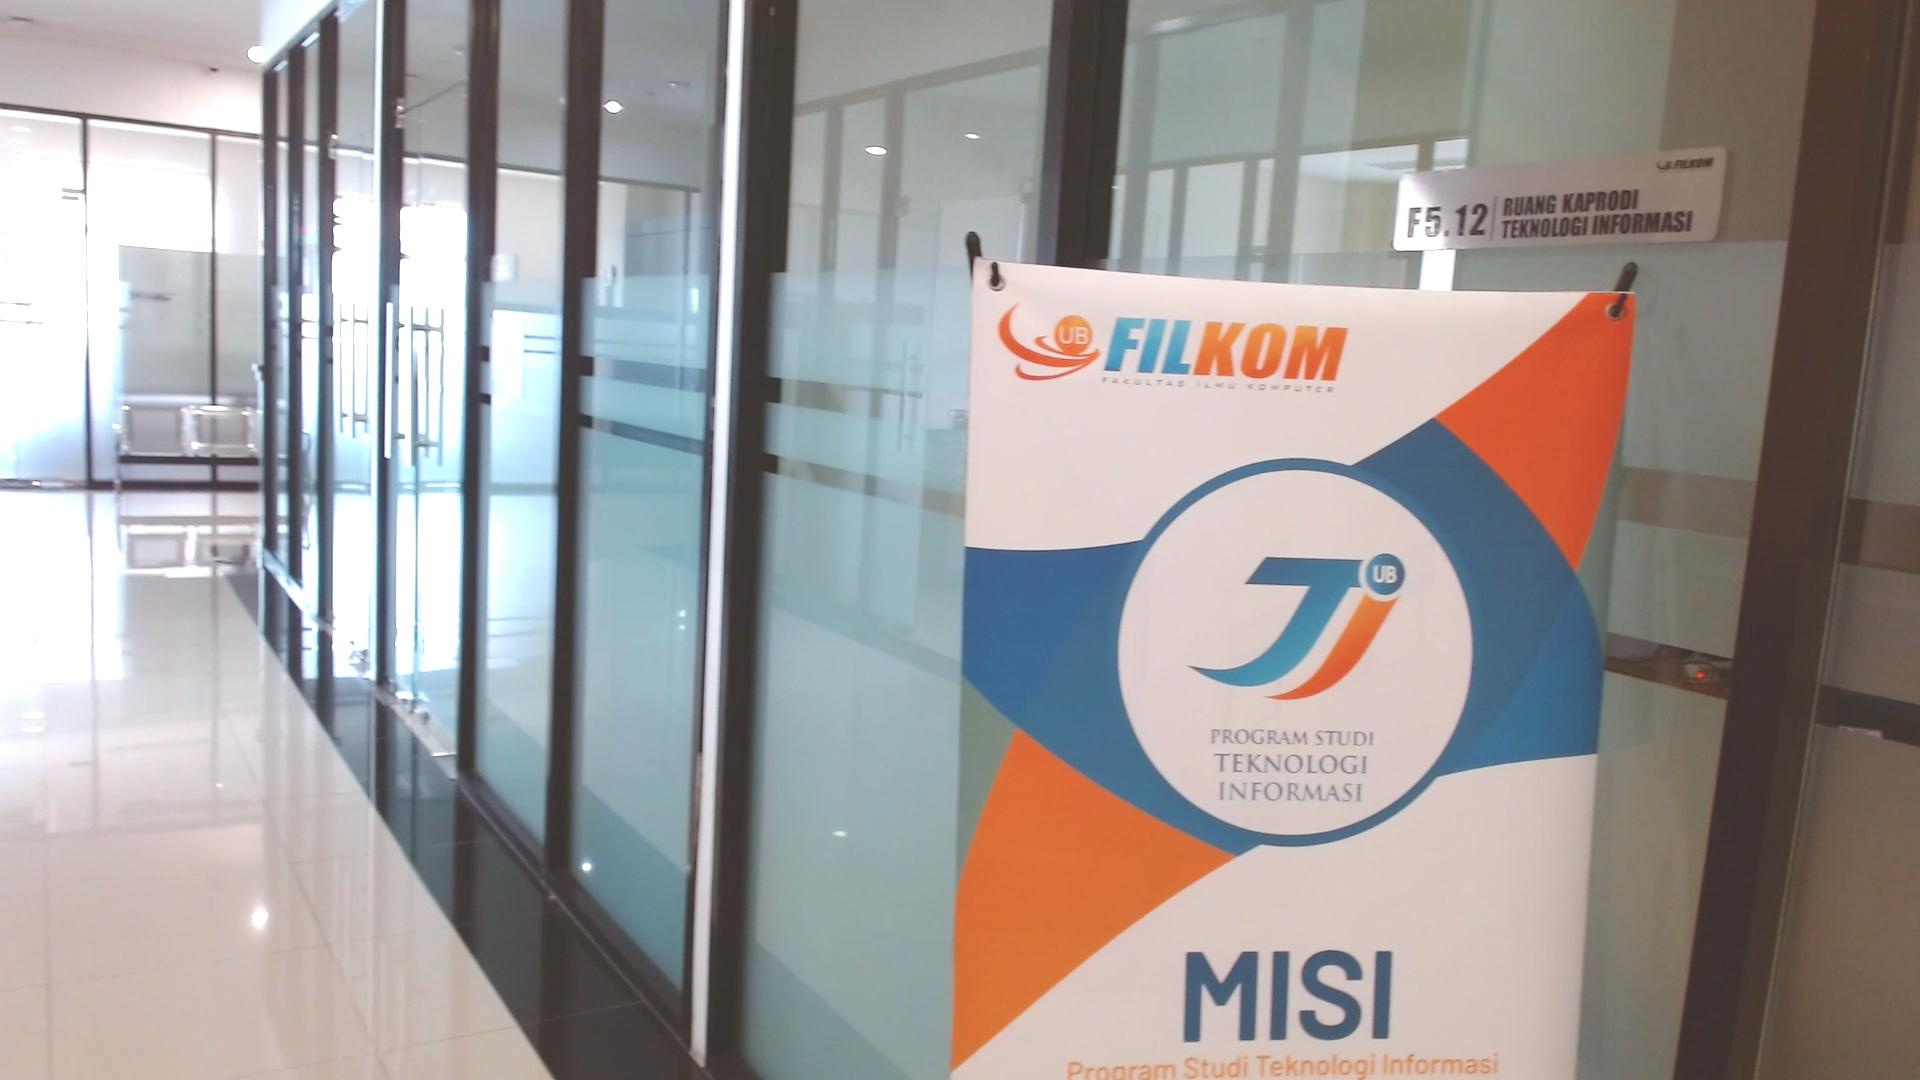plate: (1391, 148, 1727, 252)
